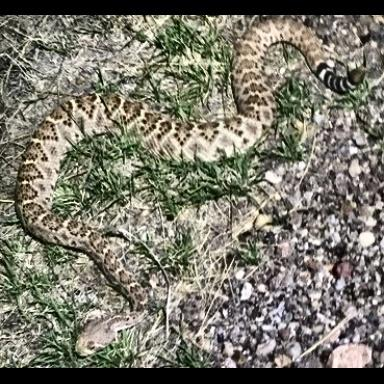snake: (0, 15, 384, 369)
